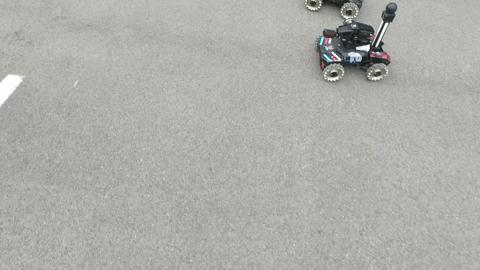chariot: (313, 1, 404, 87)
